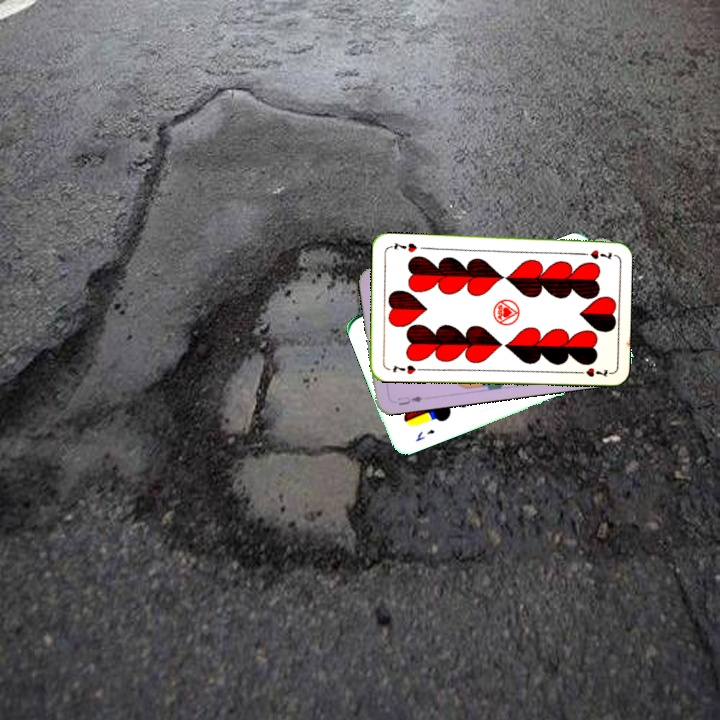EK: (411, 425, 437, 444)
EU: (394, 392, 425, 408)
H7: (575, 246, 616, 261), (389, 361, 418, 377)
